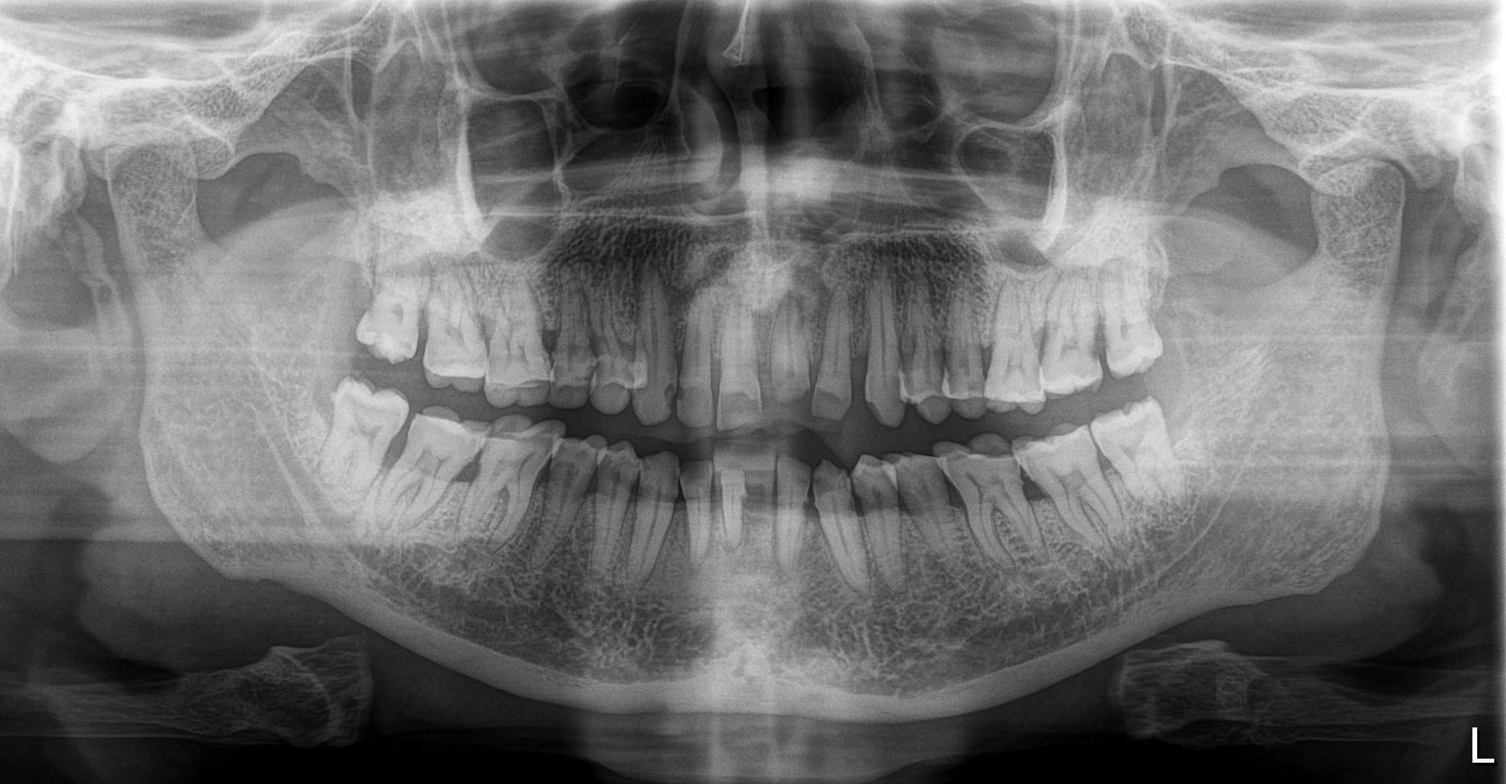Impacted Third Molar: (1102, 402, 1199, 529), (333, 380, 402, 488)
